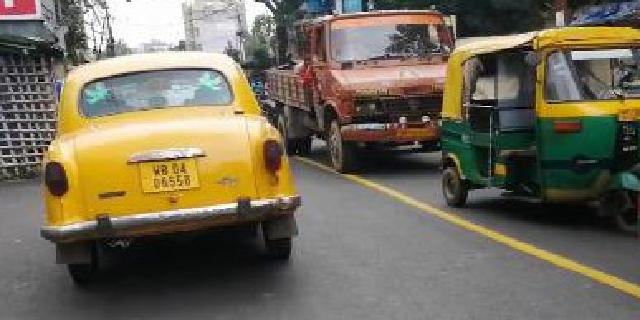Autorickshaw: (442, 22, 640, 233)
Car: (41, 34, 305, 283)
Truck: (270, 9, 473, 172)
